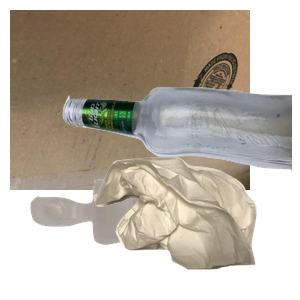cardboard: (10, 10, 250, 190)
glass: (60, 84, 300, 260)
plastic: (28, 176, 253, 300)
trash: (90, 155, 300, 300)
